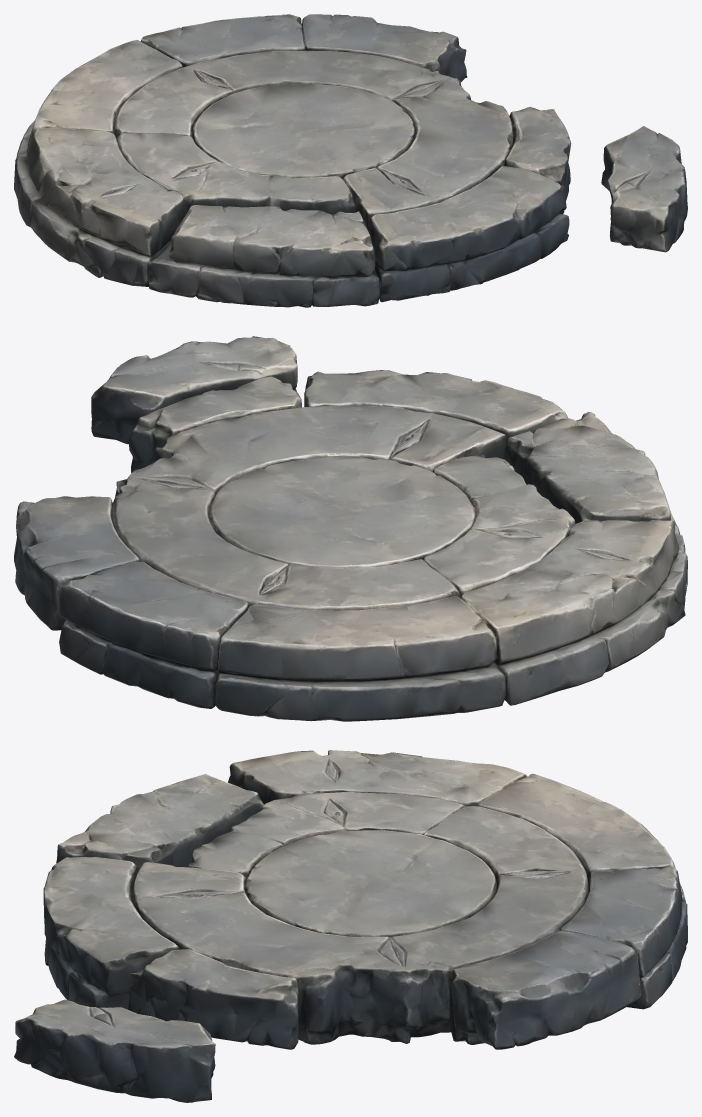
The model's file is plataforma_simple.glb.
3 renders of one model, top to bottom at view 1: azimuth 30°, elevation 25°; view 2: azimuth 150°, elevation 25°; view 3: azimuth 270°, elevation 25°, orthographic. The views are drawn at different scales.
Visible parts, largest first — view 1: tripo_node_3d1dc7a6-77d4-4deb-be92-2ea9bbffaf83; view 2: tripo_node_3d1dc7a6-77d4-4deb-be92-2ea9bbffaf83; view 3: tripo_node_3d1dc7a6-77d4-4deb-be92-2ea9bbffaf83.
Part boxes in pixels (left/top/right/bottom): tripo_node_3d1dc7a6-77d4-4deb-be92-2ea9bbffaf83: left=14, top=14, right=687, bottom=307; tripo_node_3d1dc7a6-77d4-4deb-be92-2ea9bbffaf83: left=14, top=336, right=687, bottom=721; tripo_node_3d1dc7a6-77d4-4deb-be92-2ea9bbffaf83: left=14, top=750, right=687, bottom=1102.
Size of the model in its own units: 0.9997 by 0.109 by 0.9596.
Materials: 1 (1 with a texture image).
